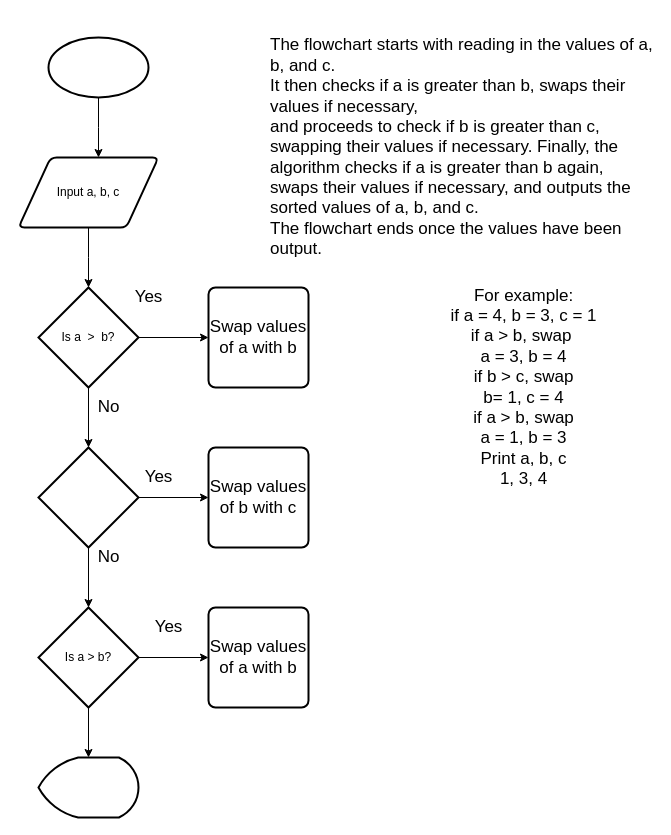
This 671x835 diagram has some shape labels left out. The centre of each missing label's shape, as x and y in pixels:
"Is b > c?" goes at [88,497].
"Print a, b, c" goes at [88,787].
"Start" goes at [98,67].
